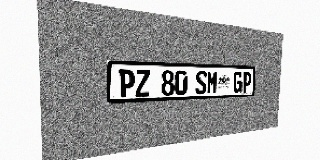0: (175, 70, 187, 95)
8: (161, 70, 175, 96)
G: (233, 71, 243, 93)
M: (207, 71, 218, 94)
P: (119, 69, 135, 98), (242, 72, 252, 92)
S: (195, 71, 207, 94)
Z: (135, 69, 150, 97)
